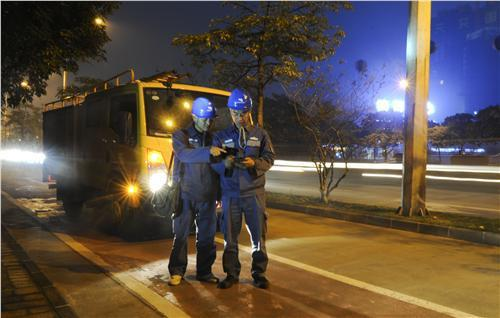helmet: (225, 87, 254, 126), (189, 97, 217, 130)
